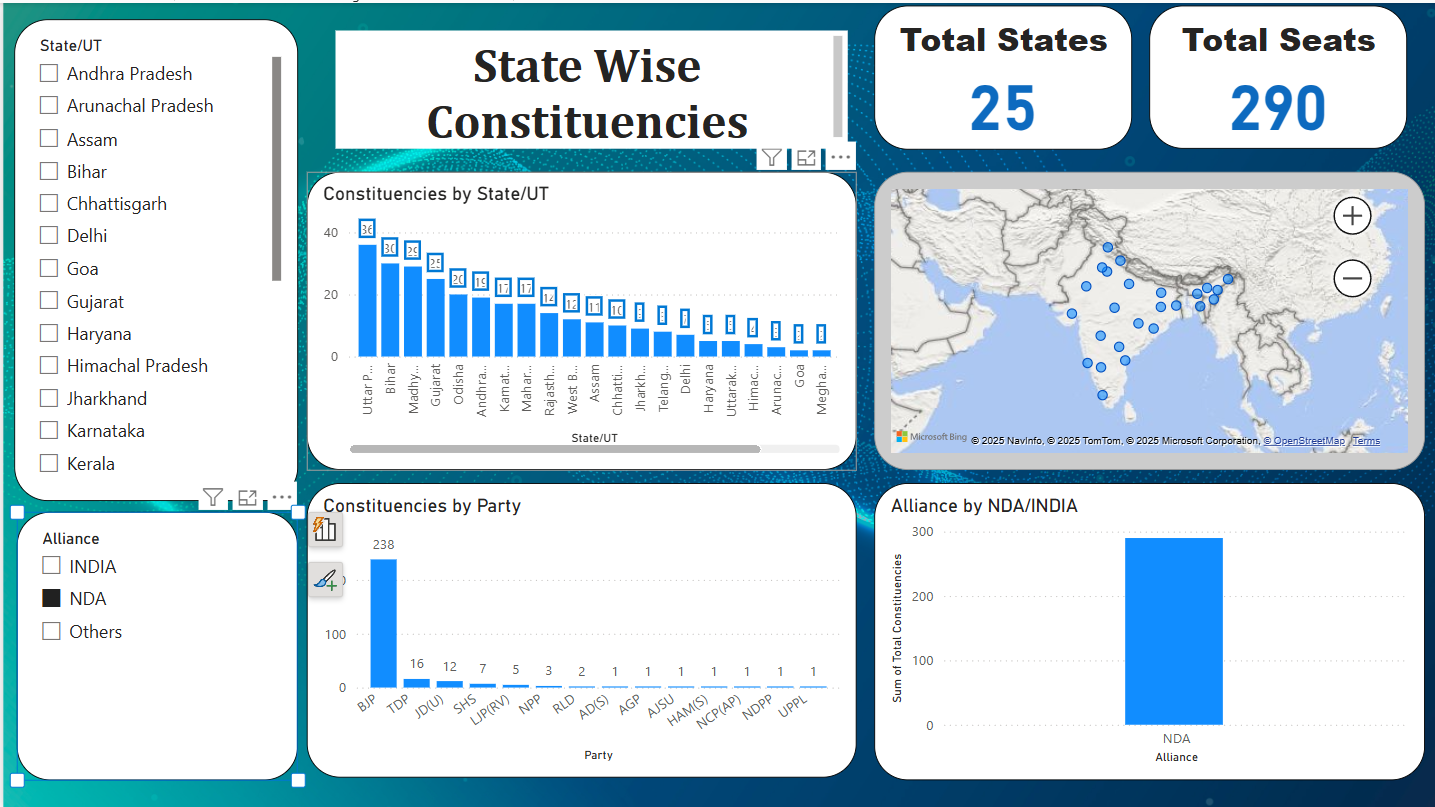

The page's visual inventory and layout, read from the dashboard file:
{"tool":"powerbi","page":{"name":"Page 1","canvas":[1280,720],"ordinal":0},"visuals":[{"type":"card","title":"Total States","fields":{"Values":["Count(constituency.State/UT)"]},"box":[777.8,2.2,230,128.9],"z":0},{"type":"card","title":"Total Seats","fields":{"Values":["Sum(constituency.Total Constituencies)"]},"box":[1024.4,2.2,230,127.8],"z":1000},{"type":"map","fields":{"Category":["constituency.State/UT"]},"box":[777.8,151.1,492.2,266.7],"z":2000},{"type":"clusteredColumnChart","title":"Constituencies by State/UT","fields":{"Category":["constituency.State/UT"],"Y":["Sum(constituency.Total Constituencies)"]},"box":[271.1,151.1,491.1,266.7],"z":3000},{"type":"clusteredColumnChart","title":"Alliance by NDA/INDIA","fields":{"Category":["constituency.Alliance"],"Y":["Sum(constituency.Total Constituencies)"]},"box":[777.8,428.9,492.2,265.6],"z":4000},{"type":"clusteredColumnChart","title":"Constituencies by Party","fields":{"Y":["Sum(constituency.Total Constituencies)"],"Category":["constituency.Party"]},"box":[271.1,428.9,491.1,263.3],"z":5000},{"type":"slicer","fields":{"Values":["constituency.State/UT"]},"box":[10,14.4,253.3,430],"z":6000},{"type":"slicer","fields":{"Values":["constituency.Alliance"]},"box":[12.2,454.4,251.1,240],"z":7000},{"type":"textbox","box":[296.7,24.4,457.8,105.6],"z":8000}]}

Visuals, with their boxes in screenshot pixels (x1, y1, x2, y2), scaled from the page's 1280x720 canvas onto the 1435x807 screenshot:
"Total States" card: bbox=(872, 2, 1130, 147)
"Total Seats" card: bbox=(1148, 2, 1406, 146)
map - constituency.State/UT: bbox=(872, 169, 1424, 468)
"Constituencies by State/UT" clusteredColumnChart: bbox=(304, 169, 854, 468)
"Alliance by NDA/INDIA" clusteredColumnChart: bbox=(872, 481, 1424, 778)
"Constituencies by Party" clusteredColumnChart: bbox=(304, 481, 854, 776)
slicer - constituency.State/UT: bbox=(11, 16, 295, 498)
slicer - constituency.Alliance: bbox=(14, 509, 295, 778)
textbox: bbox=(333, 27, 846, 146)
